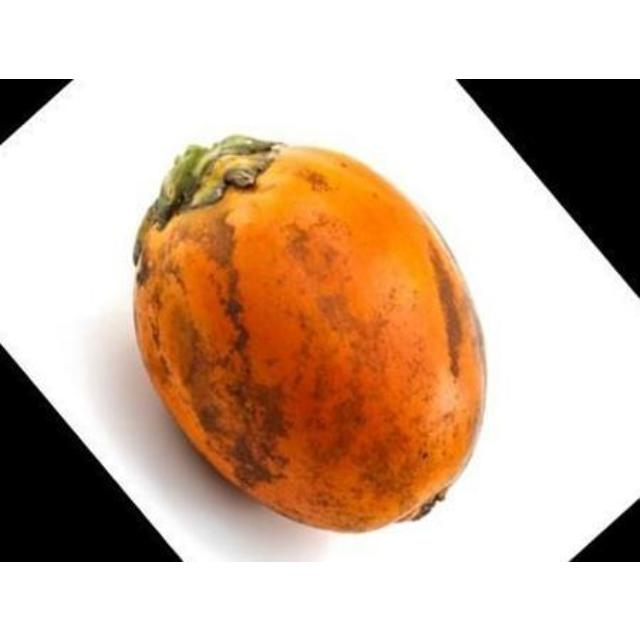good: (131, 133, 488, 535)
